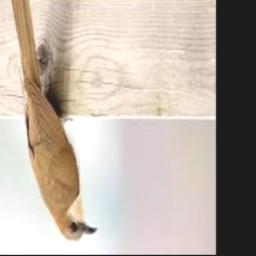Cuckoo: (7, 0, 98, 241)
